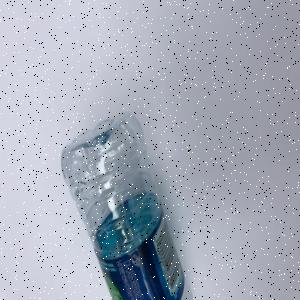Plastic-bottle: (61, 110, 197, 300)
